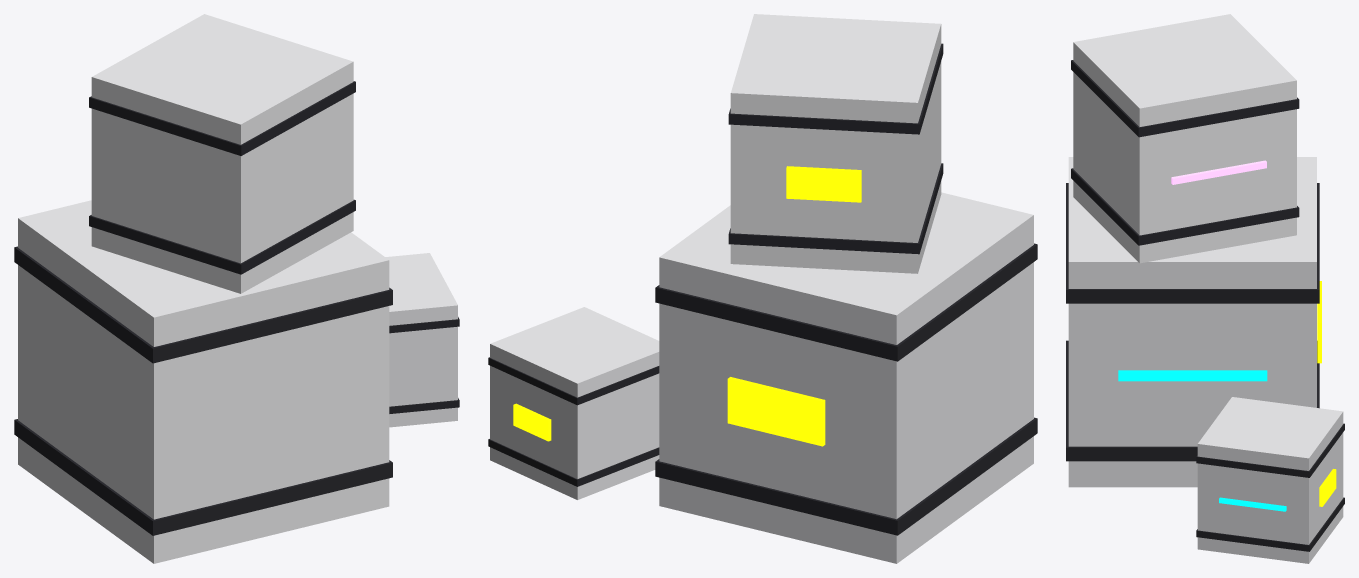
The model's file is Prop_Crates.fbx.
3 renders of one model, left to right at view 1: azimuth 30°, elevation 25°; view 2: azimuth 150°, elevation 25°; view 3: azimuth 270°, elevation 25°, orthographic. The views are drawn at different scales.
Parts seen in each view (by area): view 1: Crate_Large, Crate_Medium, Crate_Small, Crate_Large_Band85, Crate_Large_Band15, Crate_Medium_Band15, Crate_Medium_Band85, Crate_Small_Band15, Crate_Small_Band85; view 2: Crate_Large, Crate_Medium, Crate_Small, Crate_Large_Band15, Crate_Large_Band85, Crate_Large_Label, Crate_Medium_Band15, Crate_Medium_Band85, Crate_Medium_Label, Crate_Small_Band15, Crate_Small_Band85, Crate_Small_Label; view 3: Crate_Large, Crate_Medium, Crate_Small, Crate_Large_Band85, Crate_Large_Band15, Crate_Medium_Band15, Crate_Medium_Band85, Crate_Large_Glow, Crate_Small_Band85, Crate_Small_Band15, Crate_Medium_Glow, Crate_Small_Glow (+2 smaller).
Boxes of the visible parts, x1=… form: Crate_Large: x1=18, y1=200, x2=389, y2=563; Crate_Medium: x1=91, y1=14, x2=353, y2=293; Crate_Small: x1=385, y1=253, x2=457, y2=427; Crate_Large_Band85: x1=14, y1=246, x2=392, y2=363; Crate_Large_Band15: x1=14, y1=419, x2=392, y2=535; Crate_Medium_Band15: x1=89, y1=199, x2=355, y2=274; Crate_Medium_Band85: x1=89, y1=81, x2=355, y2=155; Crate_Small_Band15: x1=389, y1=398, x2=459, y2=413; Crate_Small_Band85: x1=389, y1=317, x2=459, y2=333; Crate_Large: x1=659, y1=192, x2=1033, y2=563; Crate_Medium: x1=730, y1=14, x2=941, y2=273; Crate_Small: x1=490, y1=307, x2=659, y2=499; Crate_Large_Band15: x1=655, y1=417, x2=1037, y2=535; Crate_Large_Band85: x1=655, y1=243, x2=1037, y2=361; Crate_Large_Label: x1=727, y1=377, x2=825, y2=446; Crate_Medium_Band15: x1=728, y1=163, x2=943, y2=254; Crate_Medium_Band85: x1=728, y1=43, x2=943, y2=134; Crate_Medium_Label: x1=786, y1=166, x2=861, y2=202; Crate_Small_Band15: x1=488, y1=439, x2=659, y2=486; Crate_Small_Band85: x1=488, y1=357, x2=659, y2=405; Crate_Small_Label: x1=513, y1=403, x2=551, y2=441; Crate_Large: x1=1068, y1=157, x2=1316, y2=487; Crate_Medium: x1=1073, y1=14, x2=1296, y2=263; Crate_Small: x1=1197, y1=397, x2=1343, y2=563; Crate_Large_Band85: x1=1066, y1=183, x2=1319, y2=303; Crate_Large_Band15: x1=1066, y1=340, x2=1319, y2=461; Crate_Medium_Band15: x1=1071, y1=168, x2=1299, y2=245; Crate_Medium_Band85: x1=1071, y1=60, x2=1299, y2=137; Crate_Large_Glow: x1=1118, y1=370, x2=1267, y2=381; Crate_Small_Band85: x1=1196, y1=423, x2=1344, y2=477; Crate_Small_Band15: x1=1196, y1=497, x2=1344, y2=551; Crate_Medium_Glow: x1=1171, y1=160, x2=1266, y2=184; Crate_Small_Glow: x1=1219, y1=497, x2=1286, y2=511.
Bounding box in the file's own units: 0.5589 × 0.54 × 0.3589.
